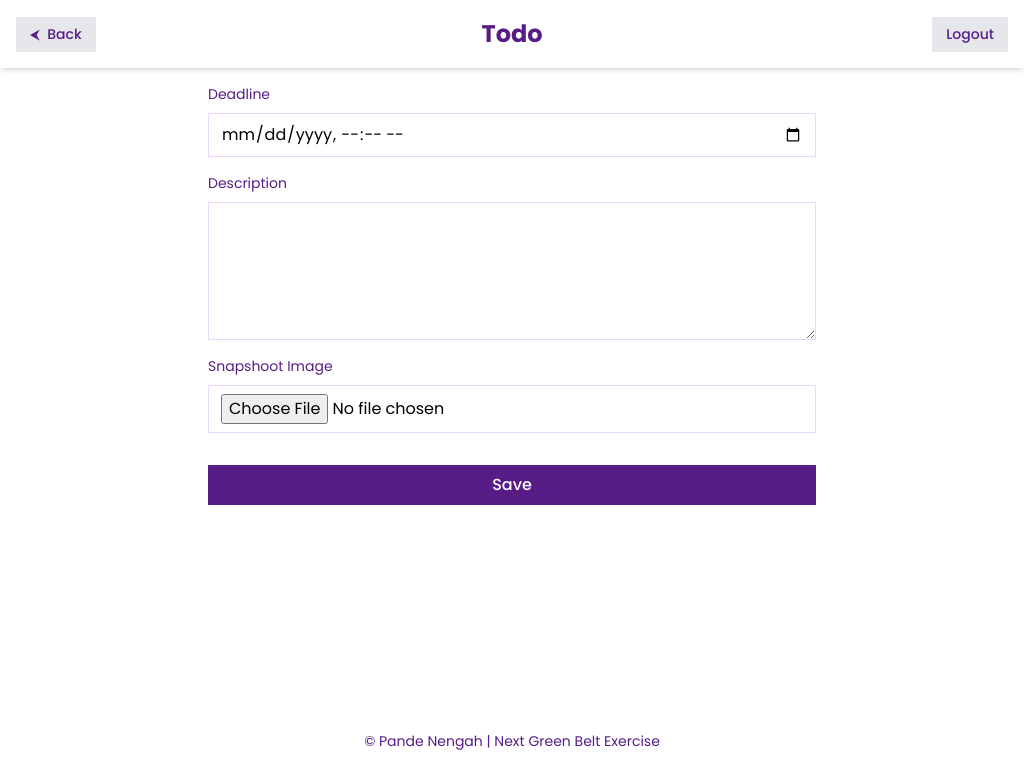
Header › should render error message
The image size is (1024, 768).
Click the button "Save": (512, 485) [208,465,816,505]
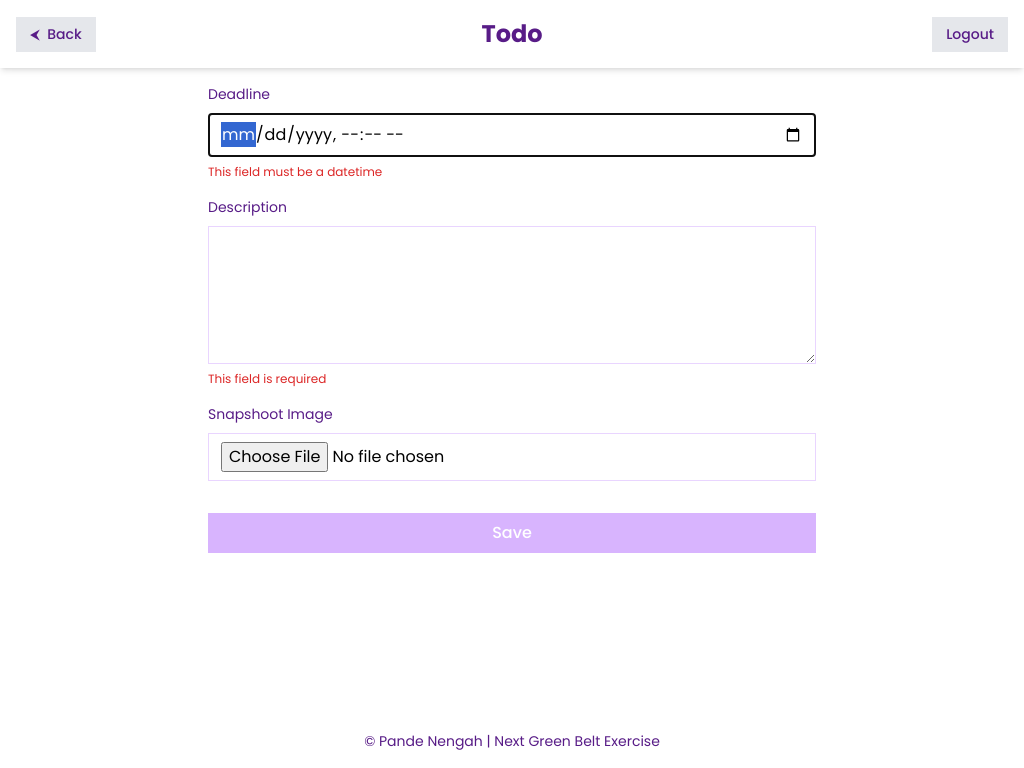
Check: the number of elements with test id "errorMsgElm" is 2, box [208,163,382,180]; [208,370,326,387]
